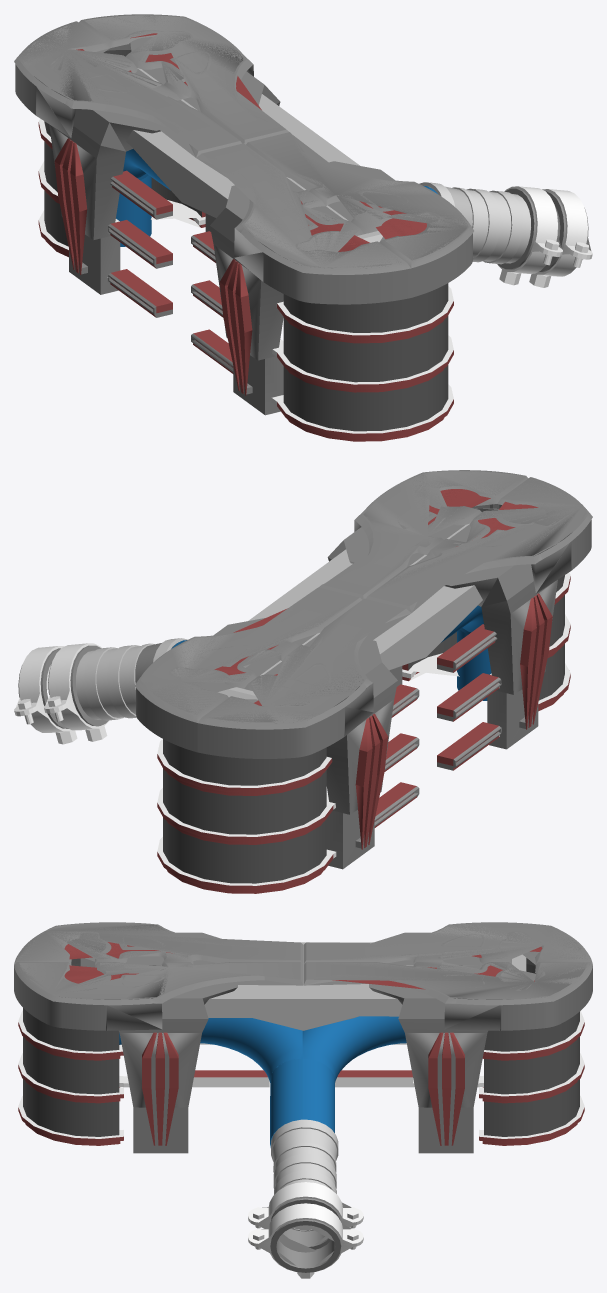
Rendered from Flyboard.fbx.
The picture shows the model from 3 angles, top to bottom: view 1: azimuth 30°, elevation 25°; view 2: azimuth 150°, elevation 25°; view 3: azimuth 270°, elevation 25°; orthographic projection. The views are drawn at different scales.
Parts seen in each view (by area): view 1: Mesh38_Color_M09_0, Mesh26_Color_M09_0, Mesh30_Color_M09_0, Mesh34_Color_M09_0, Mesh5_Color_M09_0, Mesh2_Color_M09_0, Mesh9_Color_M08_0, Mesh8_Color_M08_0, Mesh14_MT__14__0, Mesh7_Color_M08_0, Mesh6_MT__2__0, Mesh3_MT__2__0 (+24 smaller); view 2: Mesh26_Color_M09_0, Mesh34_Color_M09_0, Mesh38_Color_M09_0, Mesh30_Color_M09_0, Mesh2_Color_M09_0, Mesh12_Color_M08_0, Mesh11_Color_M08_0, Mesh5_Color_M09_0, Mesh14_MT__14__0, Mesh10_Color_M08_0, Mesh3_MT__2__0, Mesh6_MT__2__0 (+22 smaller); view 3: Mesh30_Color_M09_0, Mesh34_Color_M09_0, Mesh26_Color_M09_0, Mesh38_Color_M09_0, Mesh4_Color_M09_0, Mesh1_Color_M09_0, Mesh14_MT__14__0, Mesh13_Lisanne_Caulkgun1_0, Mesh21_Lisanne_Caulkgun1_0, Mesh18_Lisanne_Caulkgun1_0, Mesh6_MT__2__0, Mesh3_MT__2__0 (+27 smaller).
Boxes of the visible parts, <box> form: Mesh38_Color_M09_0: <box>196,143,410,304</box>; Mesh26_Color_M09_0: <box>14,21,241,157</box>; Mesh30_Color_M09_0: <box>246,132,473,297</box>; Mesh34_Color_M09_0: <box>79,14,288,144</box>; Mesh5_Color_M09_0: <box>49,68,188,294</box>; Mesh2_Color_M09_0: <box>210,177,342,415</box>; Mesh9_Color_M08_0: <box>283,365,448,431</box>; Mesh8_Color_M08_0: <box>283,316,448,382</box>; Mesh14_MT__14__0: <box>419,182,530,264</box>; Mesh7_Color_M08_0: <box>283,283,448,332</box>; Mesh6_MT__2__0: <box>126,68,314,201</box>; Mesh3_MT__2__0: <box>181,133,382,242</box>; Mesh26_Color_M09_0: <box>197,598,411,758</box>; Mesh34_Color_M09_0: <box>135,587,361,752</box>; Mesh38_Color_M09_0: <box>366,477,592,612</box>; Mesh30_Color_M09_0: <box>319,470,528,599</box>; Mesh2_Color_M09_0: <box>415,524,557,749</box>; Mesh12_Color_M08_0: <box>163,817,326,883</box>; Mesh11_Color_M08_0: <box>163,768,326,834</box>; Mesh5_Color_M09_0: <box>264,634,397,869</box>; Mesh14_MT__14__0: <box>76,638,187,720</box>; Mesh10_Color_M08_0: <box>163,739,326,785</box>; Mesh3_MT__2__0: <box>293,523,482,656</box>; Mesh6_MT__2__0: <box>218,588,425,699</box>; Mesh30_Color_M09_0: <box>14,962,303,1030</box>; Mesh34_Color_M09_0: <box>303,962,592,1030</box>; Mesh26_Color_M09_0: <box>303,922,592,964</box>; Mesh38_Color_M09_0: <box>14,922,303,964</box>; Mesh4_Color_M09_0: <box>369,966,487,1153</box>; Mesh1_Color_M09_0: <box>119,966,237,1153</box>; Mesh14_MT__14__0: <box>271,1119,338,1231</box>; Mesh13_Lisanne_Caulkgun1_0: <box>270,1059,334,1147</box>; Mesh21_Lisanne_Caulkgun1_0: <box>302,1016,406,1082</box>; Mesh18_Lisanne_Caulkgun1_0: <box>200,1018,302,1082</box>; Mesh6_MT__2__0: <box>303,942,526,1030</box>; Mesh3_MT__2__0: <box>80,942,303,1030</box>.
Size of the model in its own units: 73.27 by 35.56 by 98.52.
